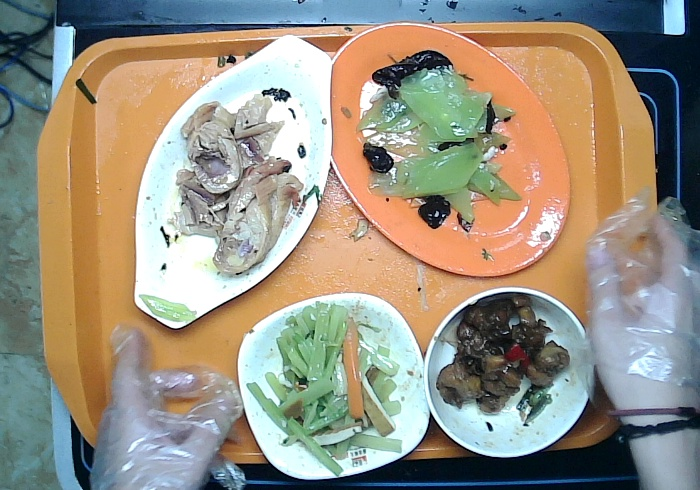NLDX-Bai_Se_Xiao_Fang_Die: (237, 292, 431, 478)
NLDX-Fan_Wan: (424, 286, 591, 457)
NLDX-Ju_Se_Pan: (328, 23, 570, 277)
NLDX-Yu_Pan: (133, 35, 334, 330)
